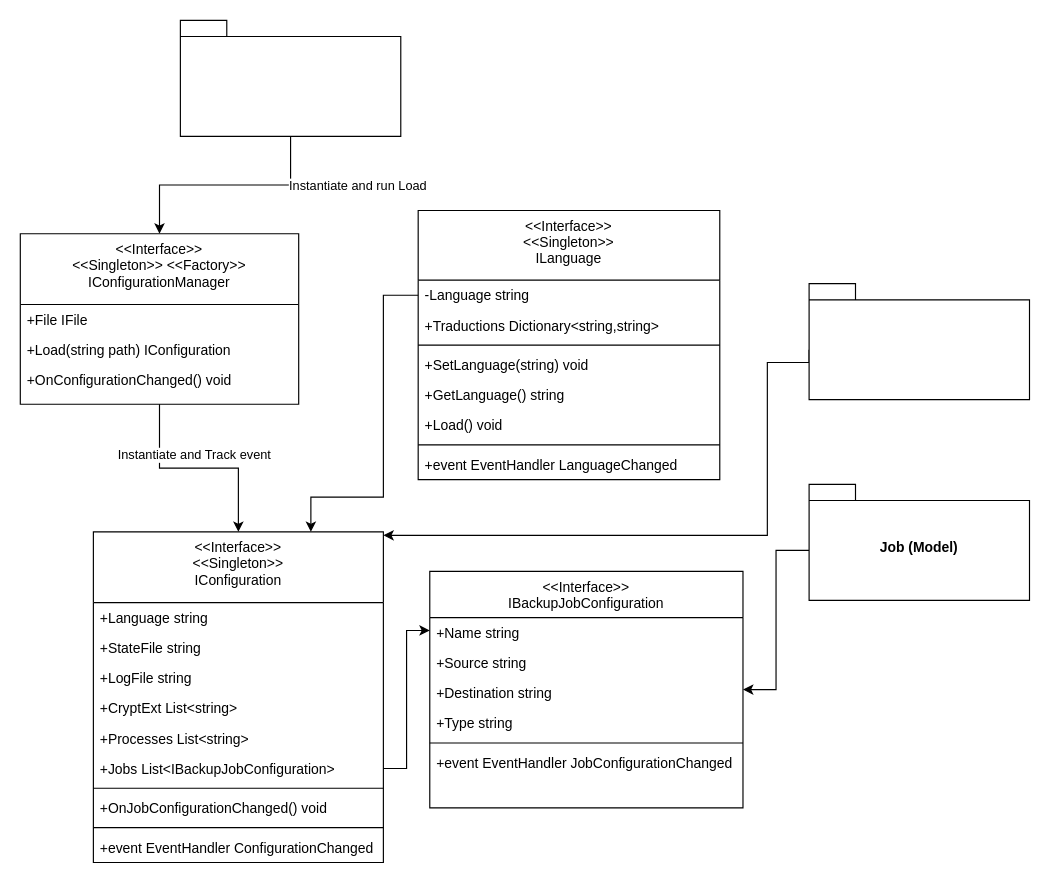
This 1050x886 diagram has some shape labels left out. The shapes that lost their labels are listed below. From the top down, each one's centre as x and y in pixels, then its label:
At point (290, 77): "View Model".
At point (919, 341): "Language (Model)".
